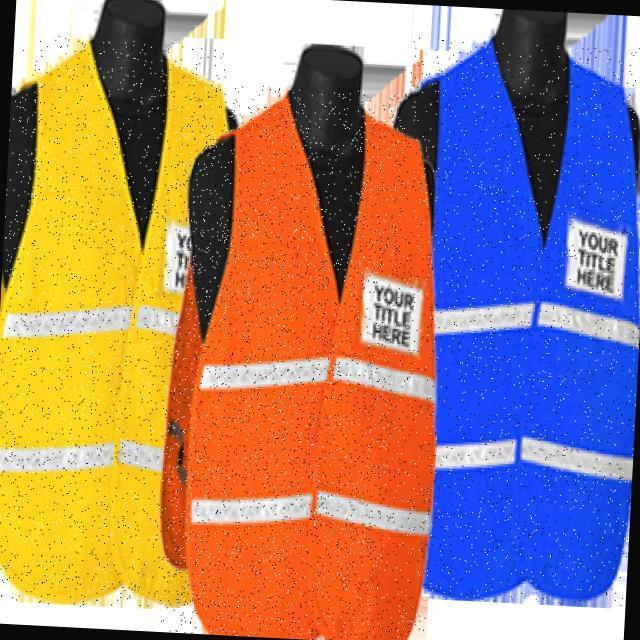safety_helmet: (295, 322, 510, 558), (114, 324, 241, 581), (241, 361, 304, 573)
